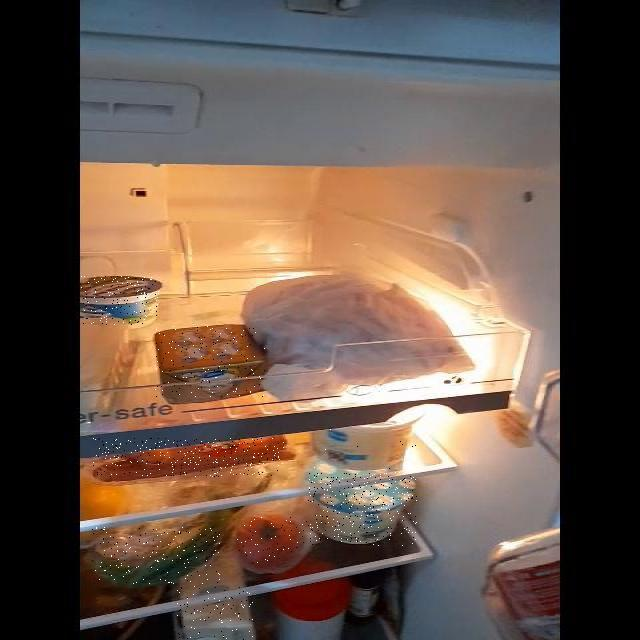butter: (155, 326, 265, 397)
carrot: (94, 438, 286, 477)
green chilies: (92, 527, 221, 584)
milk: (177, 586, 256, 640)
tomato: (236, 517, 307, 567)
yoghurt: (308, 472, 417, 546), (312, 425, 421, 471), (81, 276, 159, 325)
